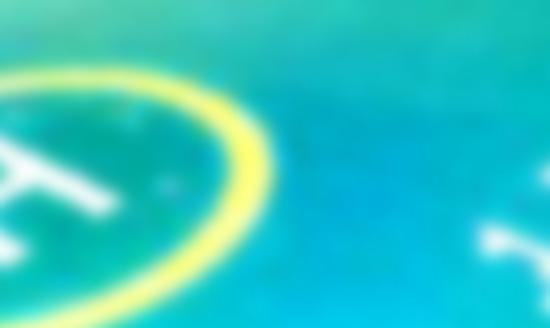Apron: (1, 58, 280, 328)
